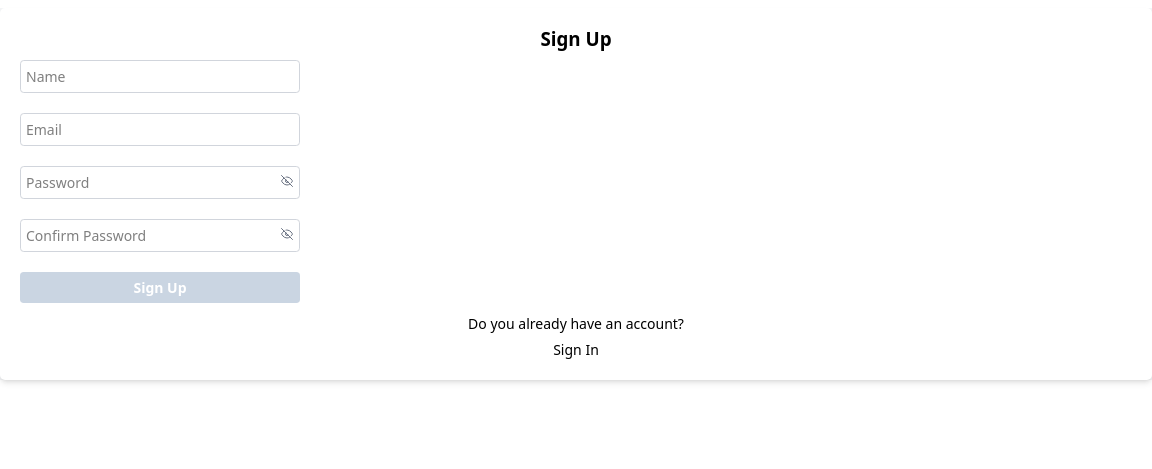
Test case: SignUpPage › displays error messages if input fields are invalid
In the field with placeholder "Name": (160, 76) [20, 60, 300, 93], type "TestMan"
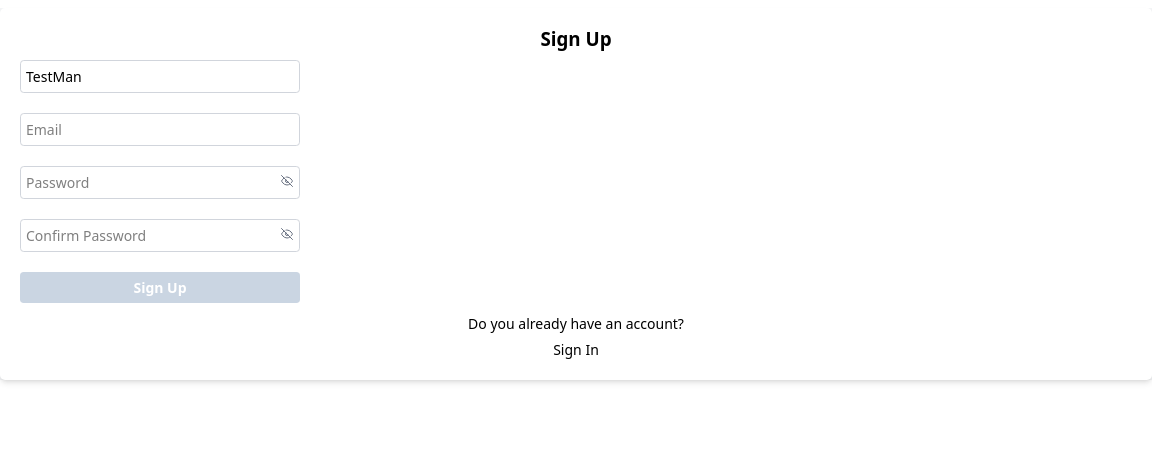
In the field with placeholder "Email": (160, 130) [20, 113, 300, 146], type "invalidMailexample.com"
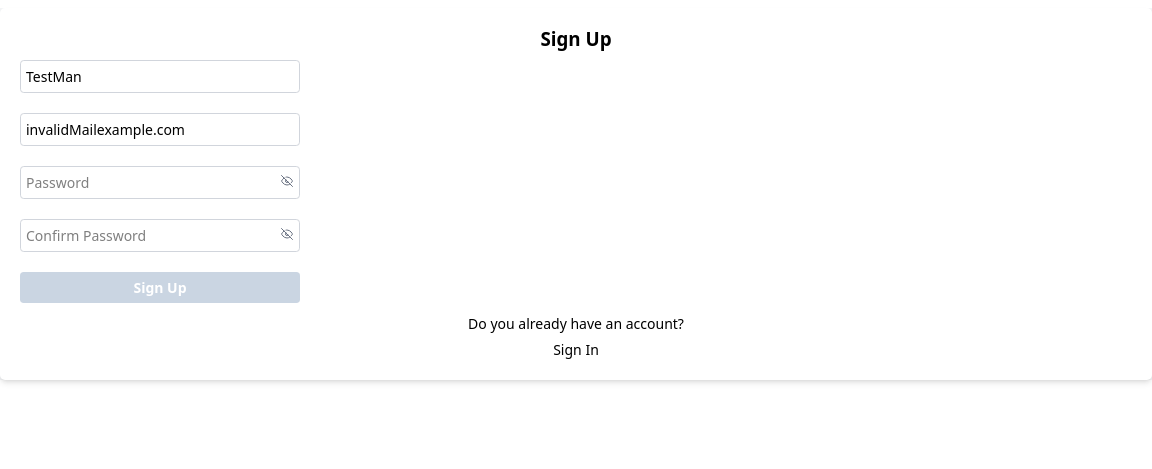
In the password field with placeholder "Password": (160, 182) [20, 166, 300, 199], type "BadPassword"
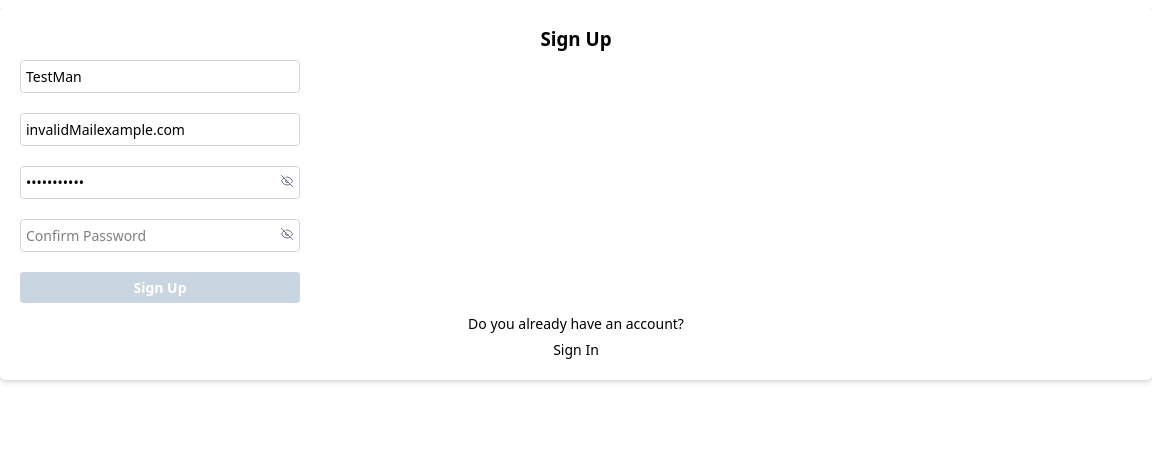
In the password field with placeholder "Confirm Password": (160, 236) [20, 219, 300, 252], type "BadPassword1"
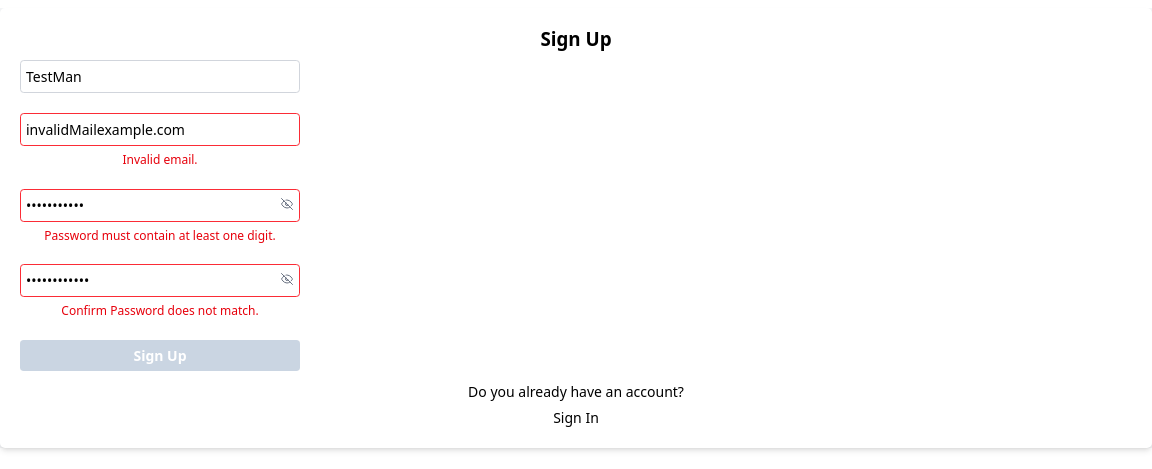
Expected: the text "Confirm Password does not match." is shown, [61, 302, 259, 319]
Expected: the text "Password must contain at least one digit." is shown, [44, 226, 276, 244]
Expected: the text "Invalid email." is shown, [122, 151, 198, 168]
